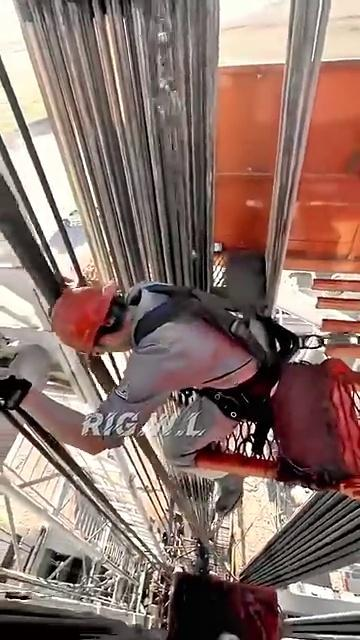helmet: (45, 258, 112, 368)
worker: (37, 233, 293, 582), (200, 462, 255, 518)
